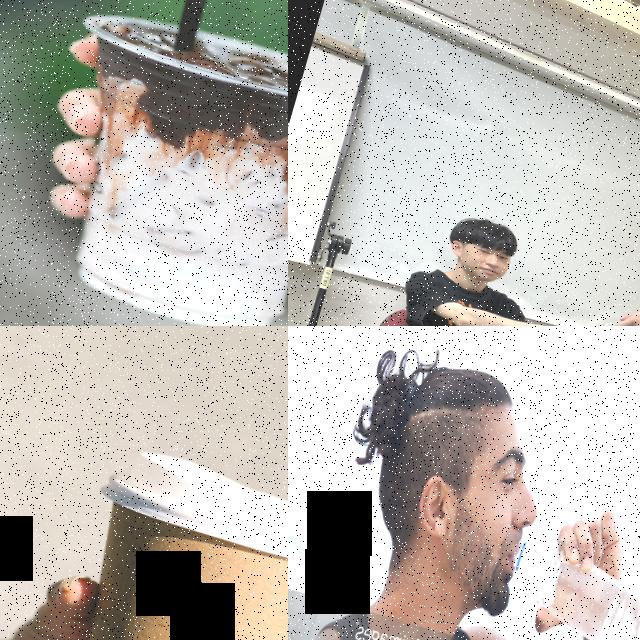bottle: (489, 531, 640, 640), (543, 303, 632, 326)
cup: (8, 0, 288, 326), (39, 434, 288, 640)
